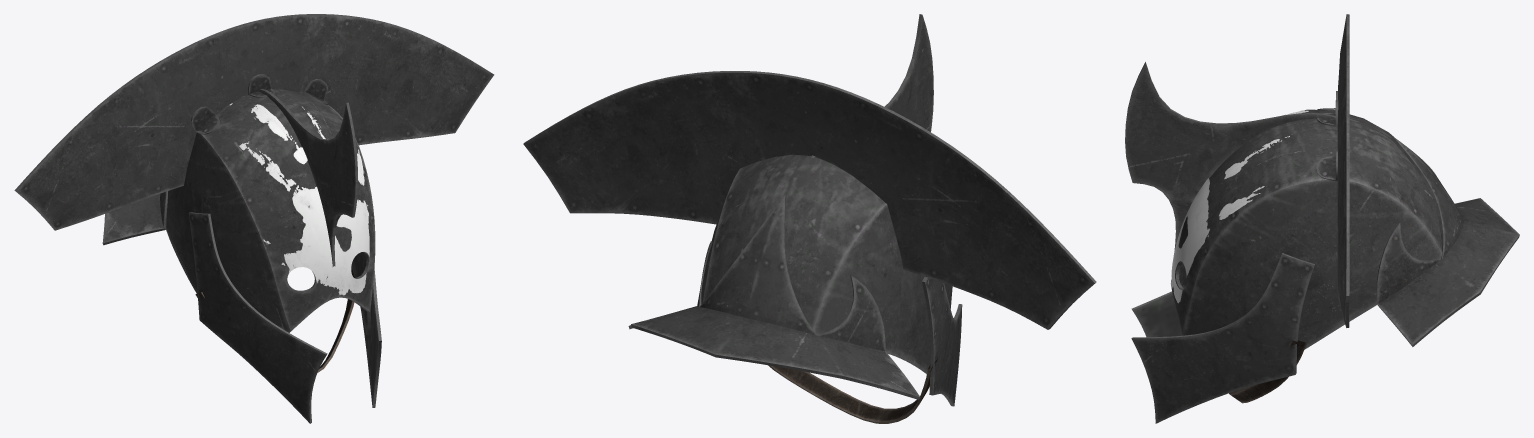
File: sk_uruk_hai_helmet_command_b1.fbx
3 views of the same model, side by side, from view 1: azimuth 30°, elevation 25°; view 2: azimuth 150°, elevation 25°; view 3: azimuth 270°, elevation 25° (orthographic). The views are drawn at different scales.
Parts seen in each view (by area): view 1: sk_uruk_hai_helmet_command_b1.0, sk_uruk_hai_helmet_command_b1.1, sk_uruk_hai_helmet_command_b1.2; view 2: sk_uruk_hai_helmet_command_b1.0, sk_uruk_hai_helmet_command_b1.2; view 3: sk_uruk_hai_helmet_command_b1.0, sk_uruk_hai_helmet_command_b1.1, sk_uruk_hai_helmet_command_b1.2.
Boxes of the visible parts, x1=… form: sk_uruk_hai_helmet_command_b1.0: x1=14, y1=14, x2=494, y2=423; sk_uruk_hai_helmet_command_b1.1: x1=229, y1=103, x2=369, y2=295; sk_uruk_hai_helmet_command_b1.2: x1=195, y1=266, x2=354, y2=372; sk_uruk_hai_helmet_command_b1.0: x1=523, y1=14, x2=1096, y2=406; sk_uruk_hai_helmet_command_b1.2: x1=768, y1=356, x2=938, y2=423; sk_uruk_hai_helmet_command_b1.0: x1=1125, y1=14, x2=1519, y2=423; sk_uruk_hai_helmet_command_b1.1: x1=1170, y1=109, x2=1334, y2=303; sk_uruk_hai_helmet_command_b1.2: x1=1229, y1=340, x2=1306, y2=403.
Size of the model in its own units: 0.5669 by 0.3724 by 0.3733.
3 materials, 3 textured.
